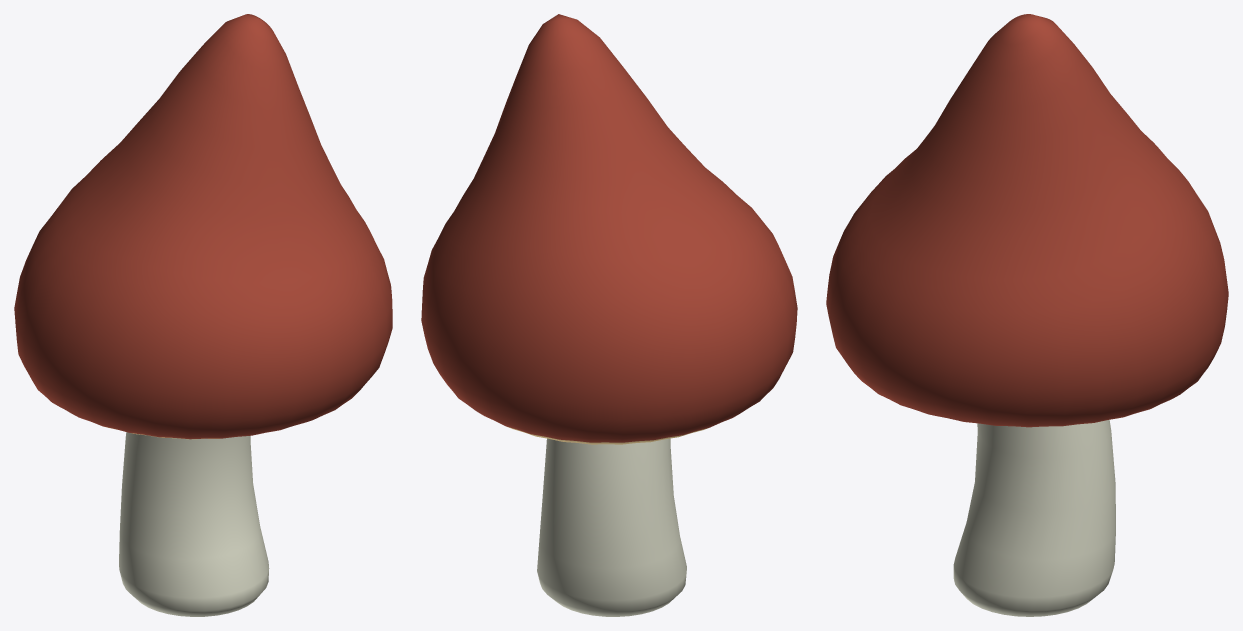
File: Champignon_2 1.fbx
3 views of the same model, side by side, from view 1: azimuth 30°, elevation 25°; view 2: azimuth 150°, elevation 25°; view 3: azimuth 270°, elevation 25° (orthographic). The views are drawn at different scales.
Parts seen in each view (by area): view 1: Champignon_2; view 2: Champignon_2; view 3: Champignon_2.
Part boxes in pixels (left/top/right/bottom): Champignon_2: left=14, top=14, right=392, bottom=616; Champignon_2: left=421, top=14, right=797, bottom=616; Champignon_2: left=826, top=14, right=1228, bottom=616.
Bounding box in the file's own units: 50.7 × 83.3 × 50.46.
